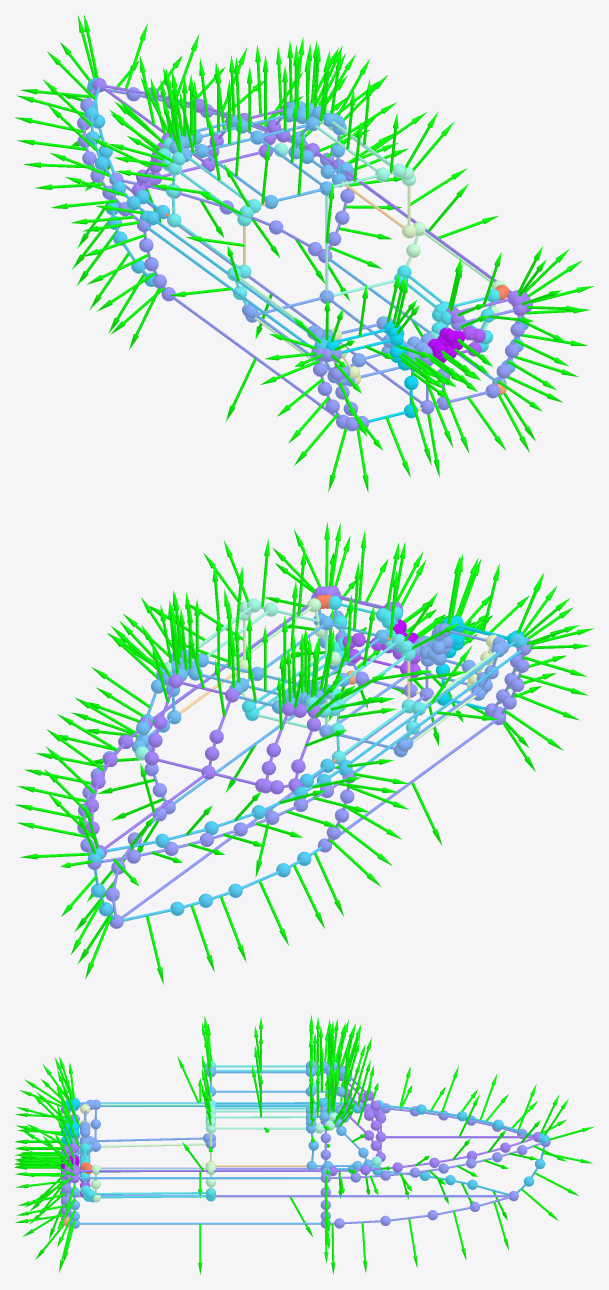
File: flowrep_boat.gltf
The picture shows the model from 3 angles, top to bottom: view 1: azimuth 30°, elevation 25°; view 2: azimuth 150°, elevation 25°; view 3: azimuth 270°, elevation 25°; orthographic projection. The views are drawn at different scales.
Bounding box in the file's own units: 0.5263 × 0.4148 × 1.11.
